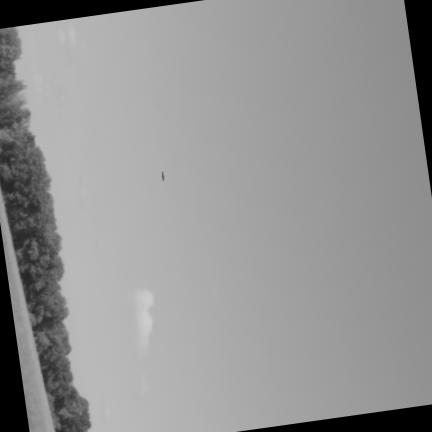Shahed: (161, 171, 163, 181)
